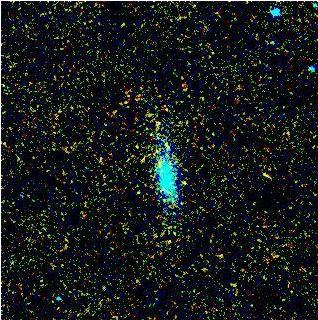star: (171, 167, 201, 197)
